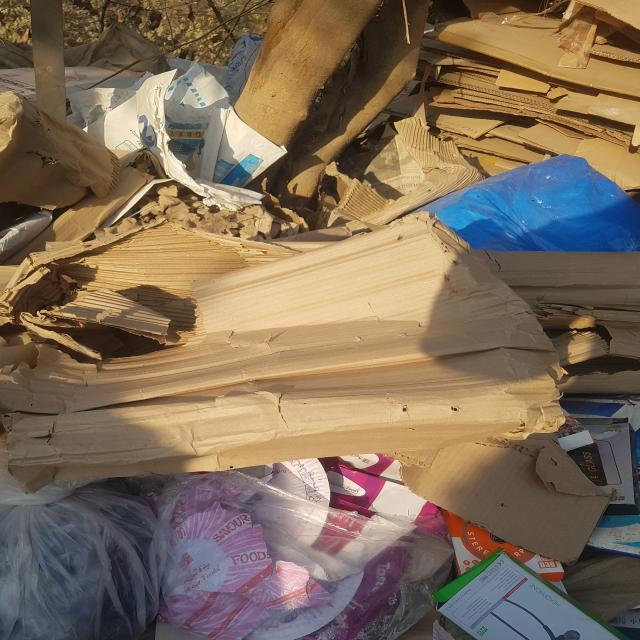electronic: (0, 211, 568, 490), (5, 347, 567, 493), (0, 222, 302, 348), (398, 432, 612, 566), (322, 115, 484, 227), (0, 90, 121, 209)
